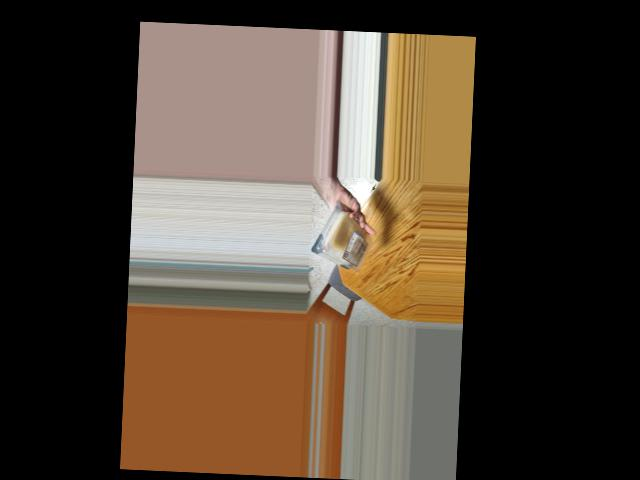cheese: (315, 203, 363, 271)
